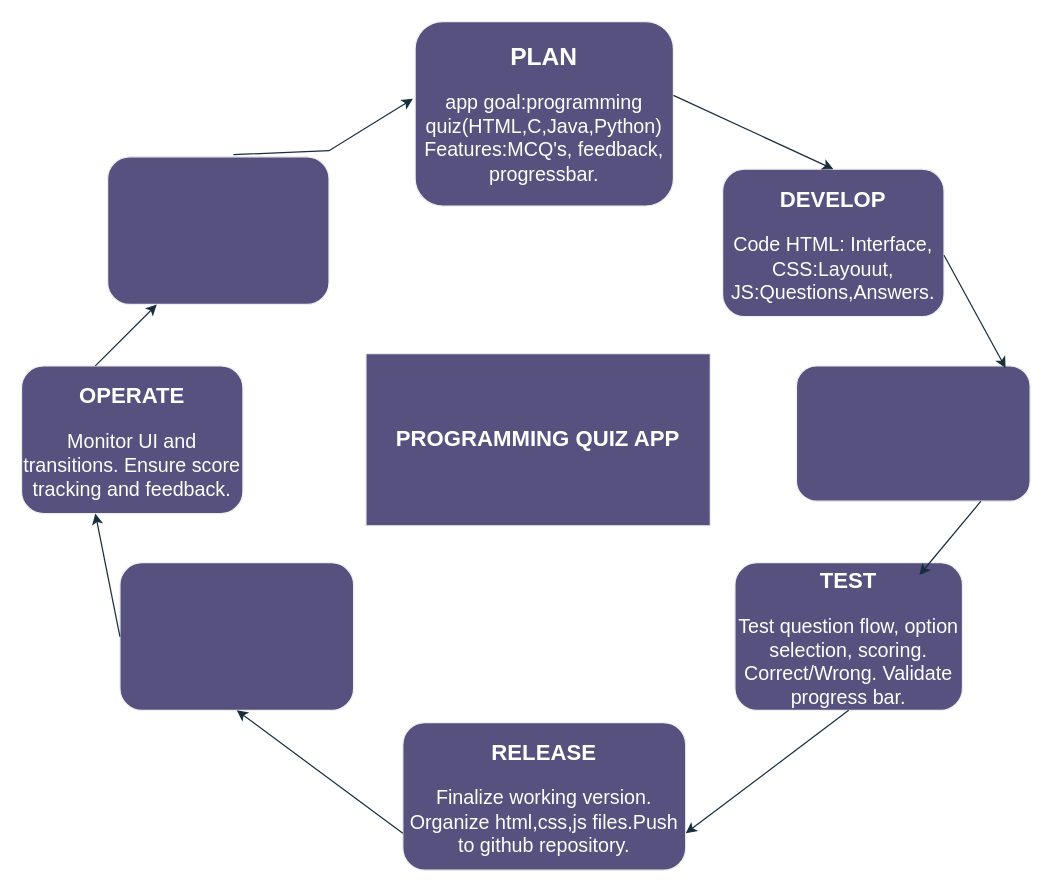
The diagram is 1052 pixels wide and 893 high, and some of its shapes have lost their labels. The shapes that lost their labels are listed below. From the top down, each one's centre as x and y in pixels, then its label:
the point at 217,230: MONITOR Gather feedback from team/users.
the point at 912,433: BUILD Build JSlogic: display Q&A,feedback, scoring. Add "next" button.
the point at 236,635: DEPLOY Deply using github pages.Test live version on browsers & mobile.
